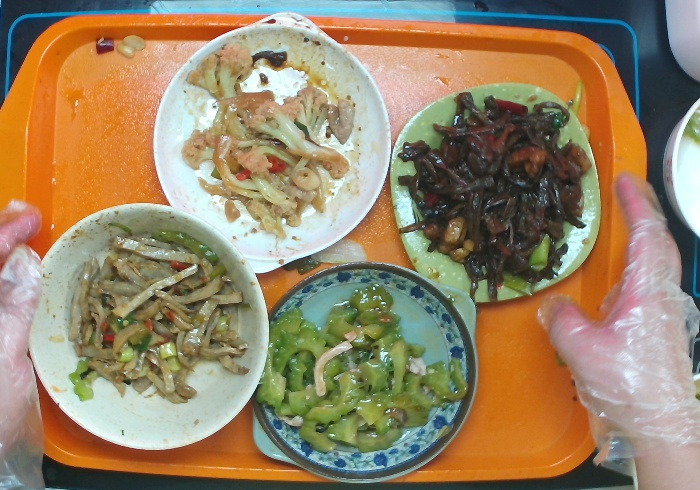NLDX-Bai_Se_Shuang_Er_Die: (140, 7, 391, 283)
NLDX-Bai_Se_Yuan_Wan: (18, 198, 275, 454)
NLDX-Lv_Hua_Fang_Die: (380, 75, 608, 307)
NLDX-Qing_Hua_Shuang_Er_Die: (240, 254, 490, 487)
